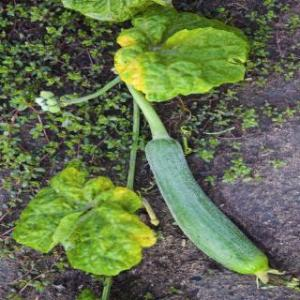zucchini: (137, 135, 289, 285)
